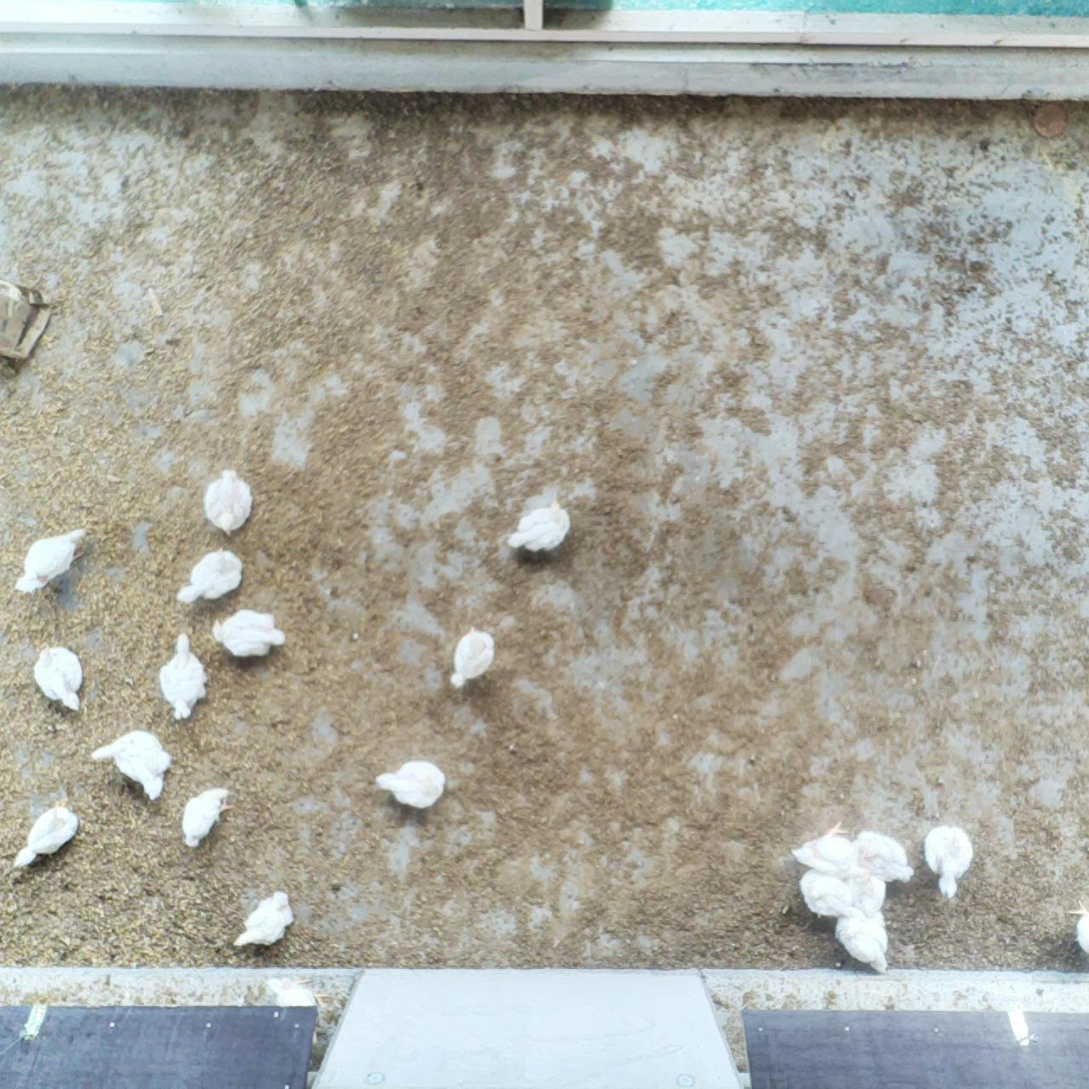chicken: (87, 726, 170, 801), (791, 818, 878, 882), (155, 629, 213, 723), (13, 795, 81, 870), (12, 527, 84, 597), (211, 605, 287, 663), (924, 820, 977, 901), (176, 541, 244, 604), (267, 975, 327, 1044), (833, 904, 892, 974), (371, 759, 449, 810), (235, 889, 297, 953), (33, 642, 86, 714), (204, 466, 257, 538), (179, 784, 235, 848), (853, 830, 916, 886), (506, 499, 572, 552), (449, 627, 496, 690), (841, 859, 888, 913), (797, 867, 845, 919), (1066, 901, 1089, 956)
